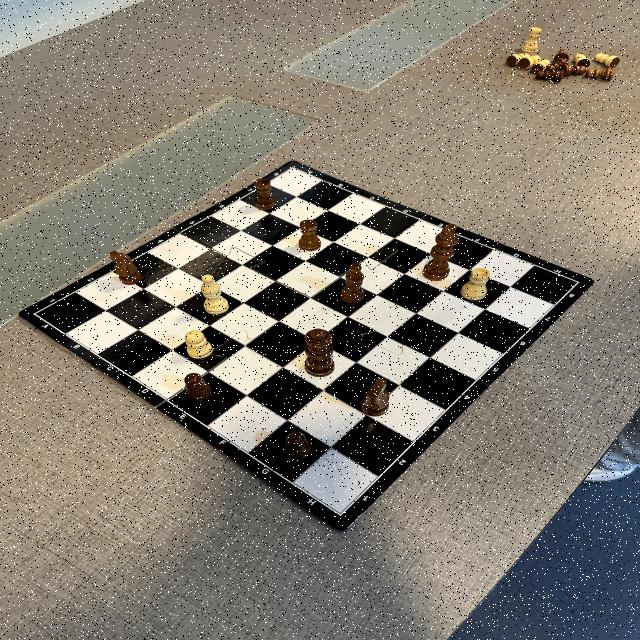Black-Bishop: (340, 264, 364, 304)
Black-King: (422, 224, 460, 282)
Black-Knight: (109, 250, 143, 285), (360, 378, 390, 416)
Black-Pawn: (284, 431, 312, 460), (184, 372, 212, 400), (586, 67, 616, 81), (535, 70, 565, 82), (574, 66, 586, 76), (558, 49, 570, 54), (546, 66, 554, 70)
Black-Queen: (304, 328, 335, 378)
Black-Rook: (298, 220, 322, 252), (254, 178, 277, 210)
White-Bishop: (200, 274, 230, 314)
White-Pawn: (184, 331, 213, 358), (594, 52, 620, 68), (574, 53, 592, 66), (528, 54, 542, 62), (539, 59, 551, 66), (518, 52, 528, 58)
White-Rook: (460, 268, 490, 301), (520, 26, 542, 54)
